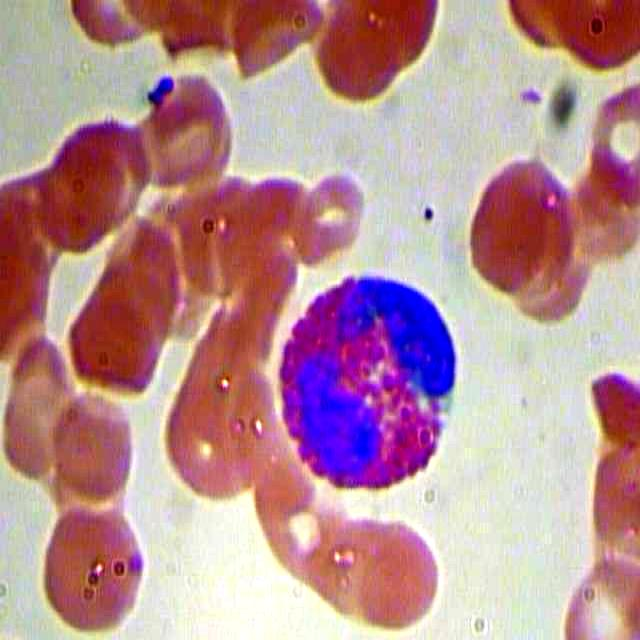Platelets: (142, 70, 175, 106)
RBC: (158, 364, 281, 504), (35, 502, 150, 638), (463, 158, 578, 294), (34, 137, 121, 252), (57, 391, 144, 505), (354, 515, 441, 629), (314, 2, 401, 114), (297, 168, 364, 265)
WBC: (268, 260, 472, 504)
